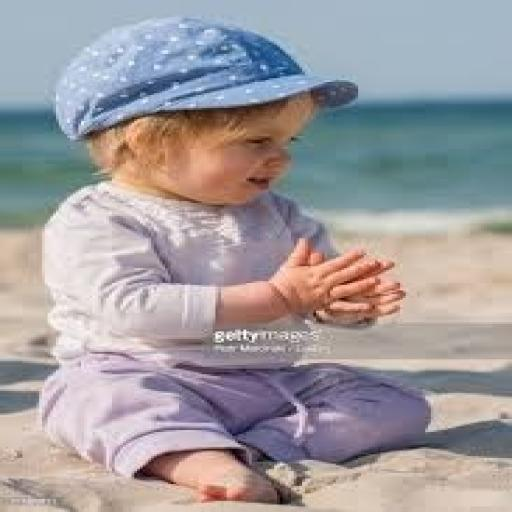clapping: (36, 13, 434, 505)
